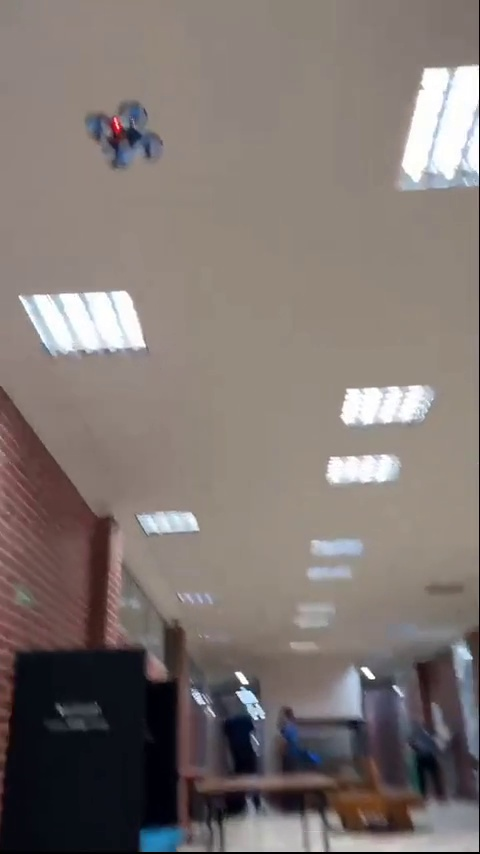drone: (84, 103, 170, 174)
no vest: (273, 704, 325, 773), (408, 724, 448, 806), (216, 701, 260, 775)
